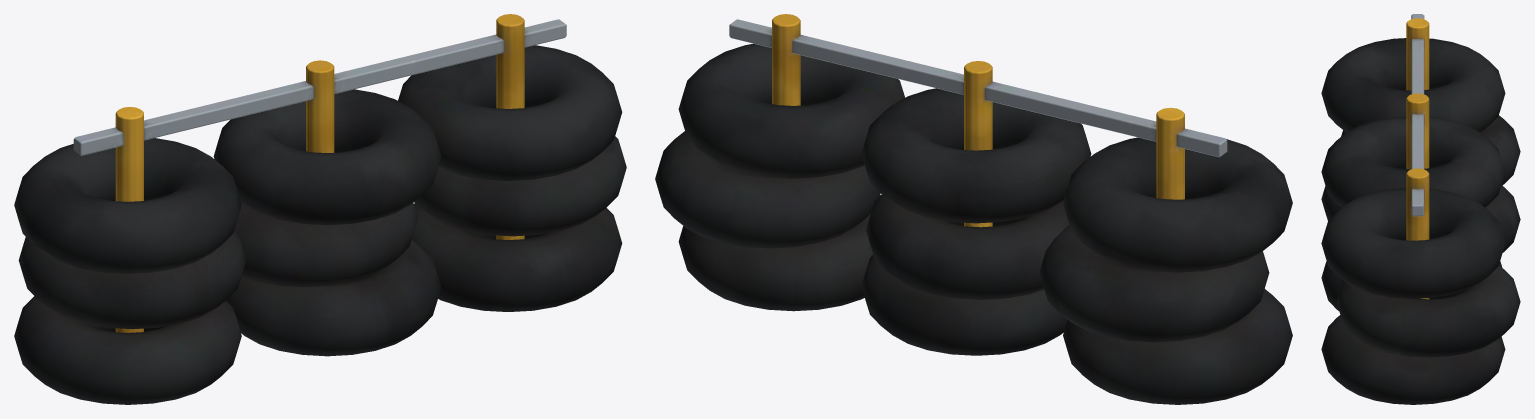
Rendered from tire_barrier.glb.
3 renders of one model, left to right at view 1: azimuth 30°, elevation 25°; view 2: azimuth 150°, elevation 25°; view 3: azimuth 270°, elevation 25°, orthographic. The views are drawn at different scales.
Parts seen in each view (by area): view 1: TireBarrier; view 2: TireBarrier; view 3: TireBarrier.
Part boxes in pixels (x1,y1,x2,y2): TireBarrier: [14, 14, 626, 404]; TireBarrier: [655, 14, 1292, 404]; TireBarrier: [1321, 14, 1520, 404].
Size of the model in its own units: 2.55 by 1.05 by 0.9199.
1 material, 1 textured.
